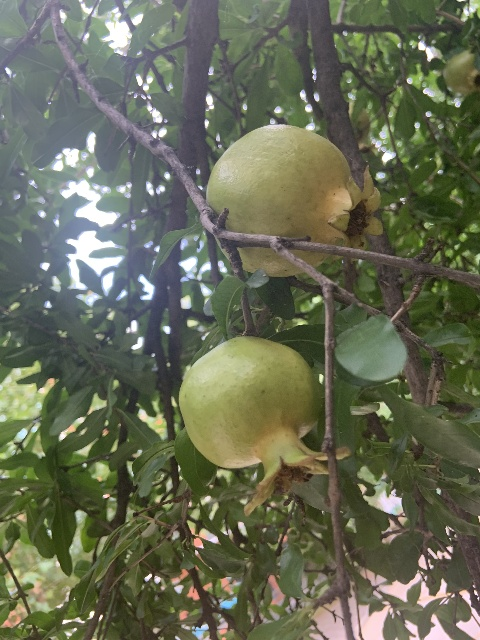mid-growth: (178, 336, 350, 515), (206, 124, 382, 277), (443, 50, 480, 94)
